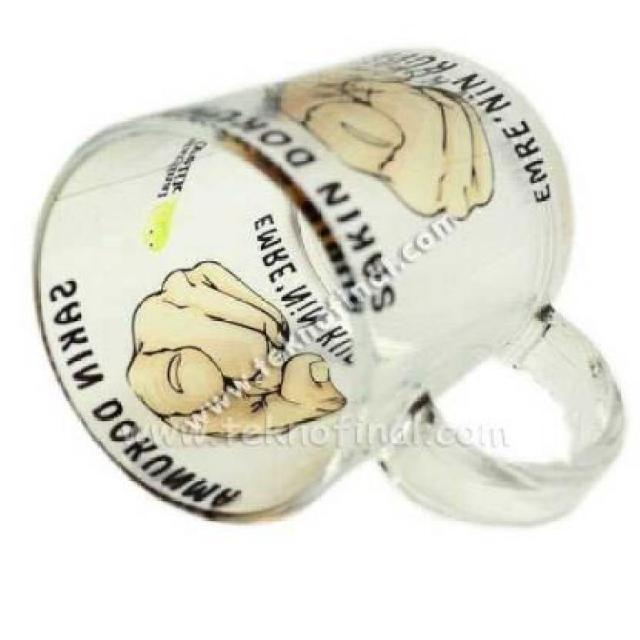taza: (30, 44, 630, 534)
